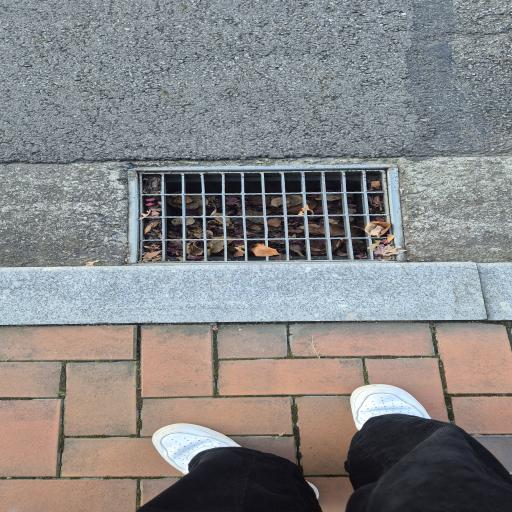drain: (130, 166, 401, 266)
